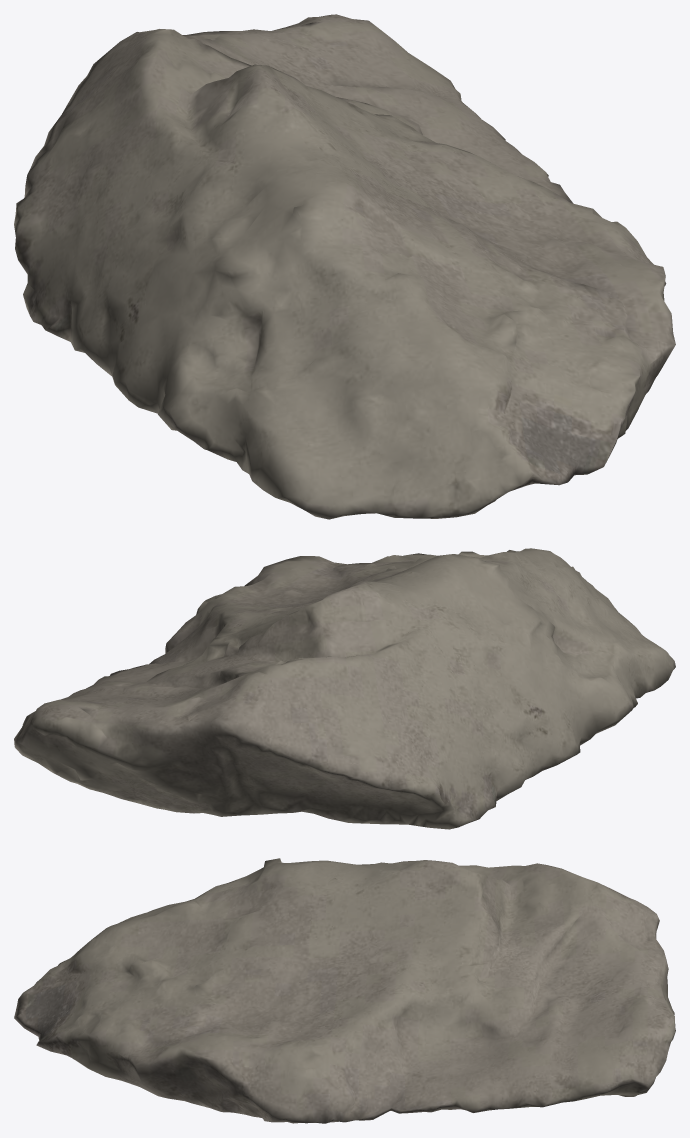
Rendered from moon_rock_04-transformed.glb.
3 renders of one model, top to bottom at view 1: azimuth 30°, elevation 25°; view 2: azimuth 150°, elevation 25°; view 3: azimuth 270°, elevation 25°, orthographic. The views are drawn at different scales.
Visible parts, largest first — view 1: moon_rock_04_LOD0; view 2: moon_rock_04_LOD0; view 3: moon_rock_04_LOD0.
Part boxes in pixels (<box>): moon_rock_04_LOD0: <box>14,14,675,519</box>; moon_rock_04_LOD0: <box>14,548,675,829</box>; moon_rock_04_LOD0: <box>14,858,675,1123</box>.
Size of the model in its own units: 0.1198 by 0.0538 by 0.1738.
Materials: 1 (1 with a texture image).
